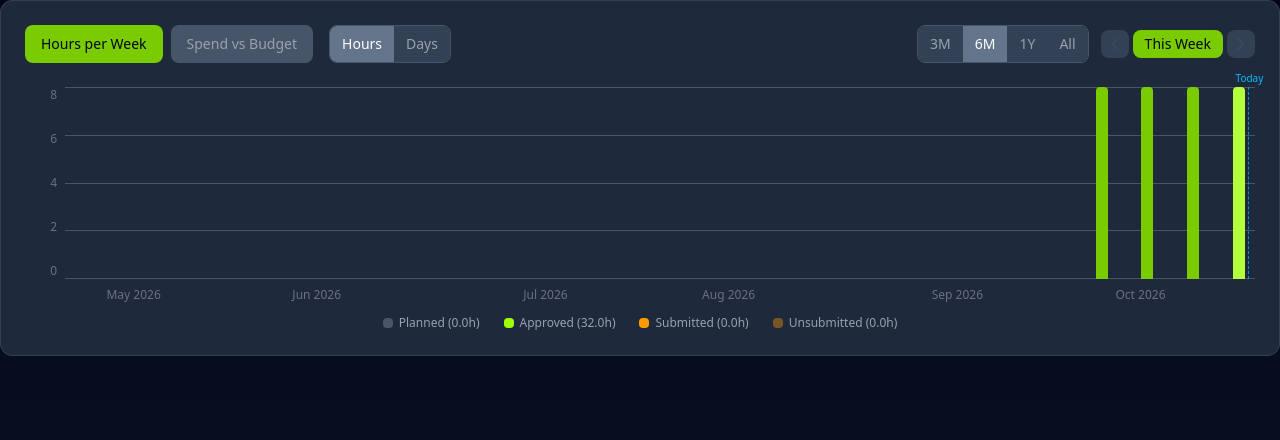
Spend vs Budget chart with hidden figures › still draws the effort chart when only one of its cards is hidden
Click the button "Spend vs Budget" at coordinates (242, 44), box 171,25 -> 313,63
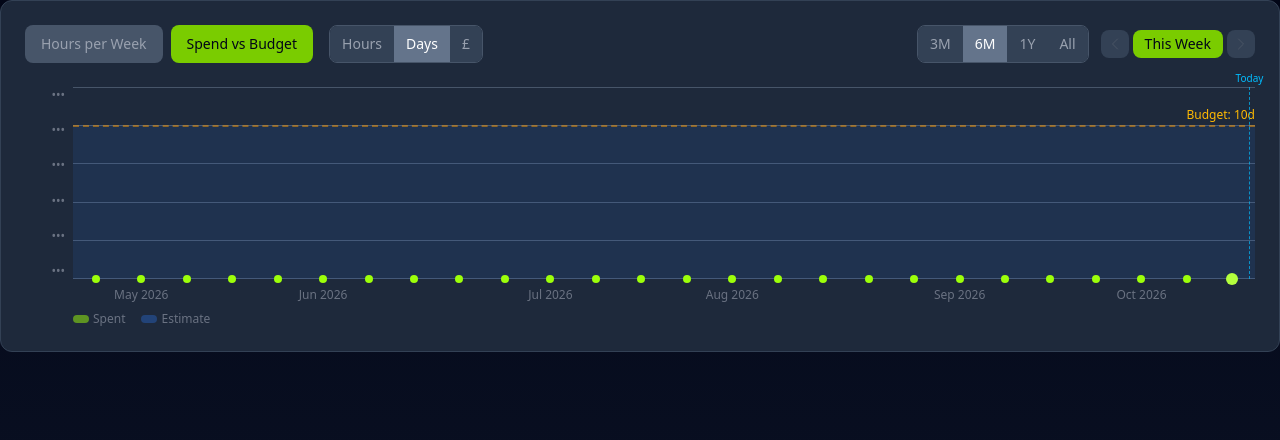
Result: the text "Budget: 10d" is shown at 1186,107 -> 1255,123
